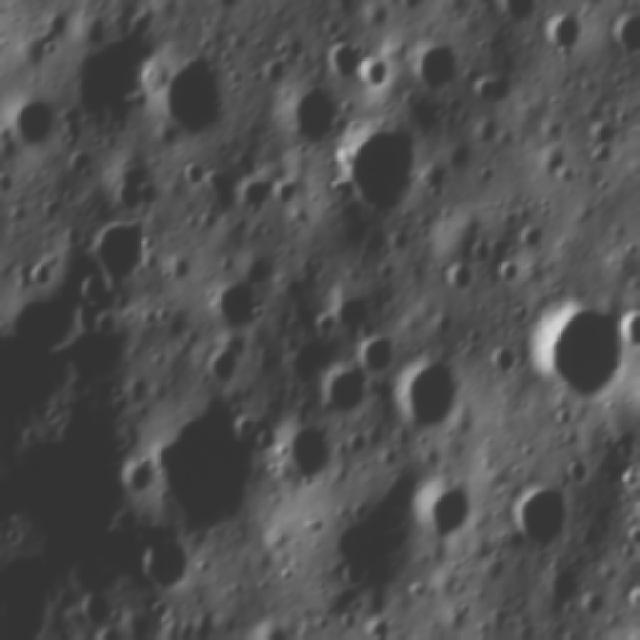crater: (153, 409, 267, 537), (524, 306, 634, 405), (69, 35, 163, 136), (342, 121, 424, 221), (142, 55, 229, 148), (397, 358, 468, 438), (277, 418, 345, 498), (278, 82, 349, 158), (84, 215, 154, 287), (408, 486, 475, 552), (512, 487, 576, 553), (324, 292, 387, 354), (133, 541, 198, 594), (8, 100, 61, 162), (411, 39, 463, 98), (285, 340, 341, 394), (212, 282, 268, 336), (317, 371, 368, 424), (207, 343, 258, 394), (111, 454, 158, 506), (322, 43, 368, 92), (352, 337, 398, 383), (74, 587, 115, 636), (436, 264, 486, 304), (235, 171, 280, 215), (480, 346, 525, 388), (545, 11, 583, 58), (78, 272, 114, 318), (357, 55, 392, 100), (474, 77, 514, 114), (494, 3, 537, 34), (498, 262, 533, 292), (28, 255, 55, 292), (518, 226, 551, 254)
